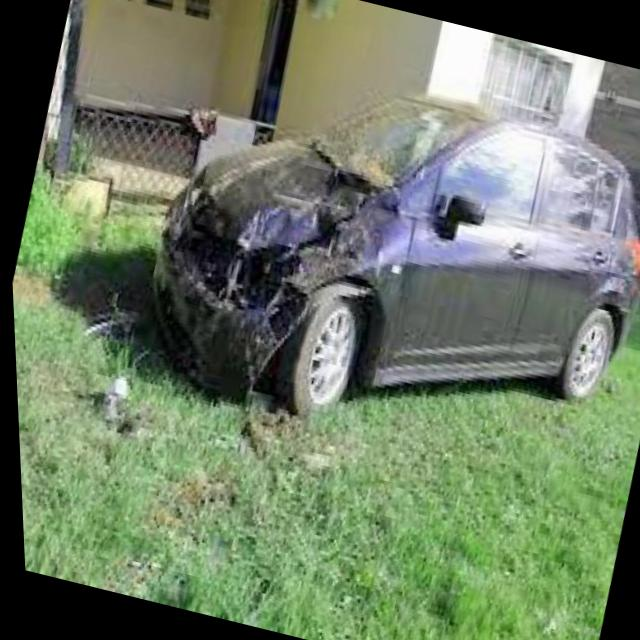Car-Damage: (119, 96, 423, 427)
